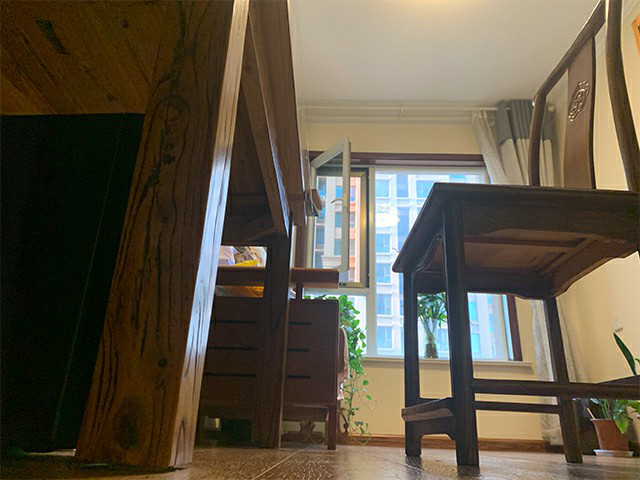curtain: (474, 98, 591, 448)
sofa: (199, 246, 348, 450)
stool: (391, 1, 640, 469)
table: (1, 1, 312, 471)
